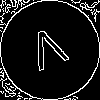V: (25, 25, 73, 80)
